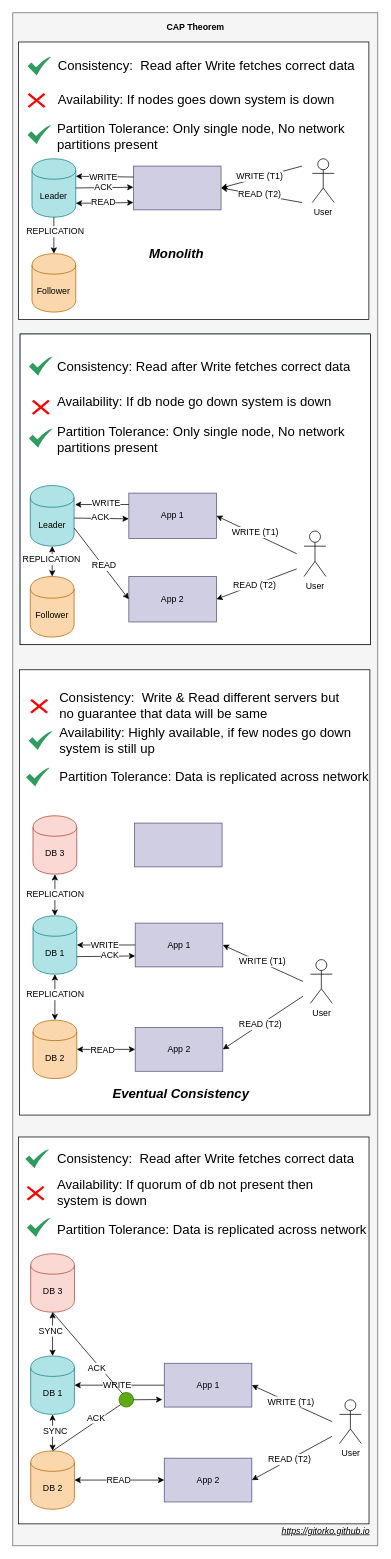
This 391x1559 diagram has some shape labels left out. Each missing label, with the centre of its shape:
App: (x=177, y=187)
App 3: (x=178, y=844)
